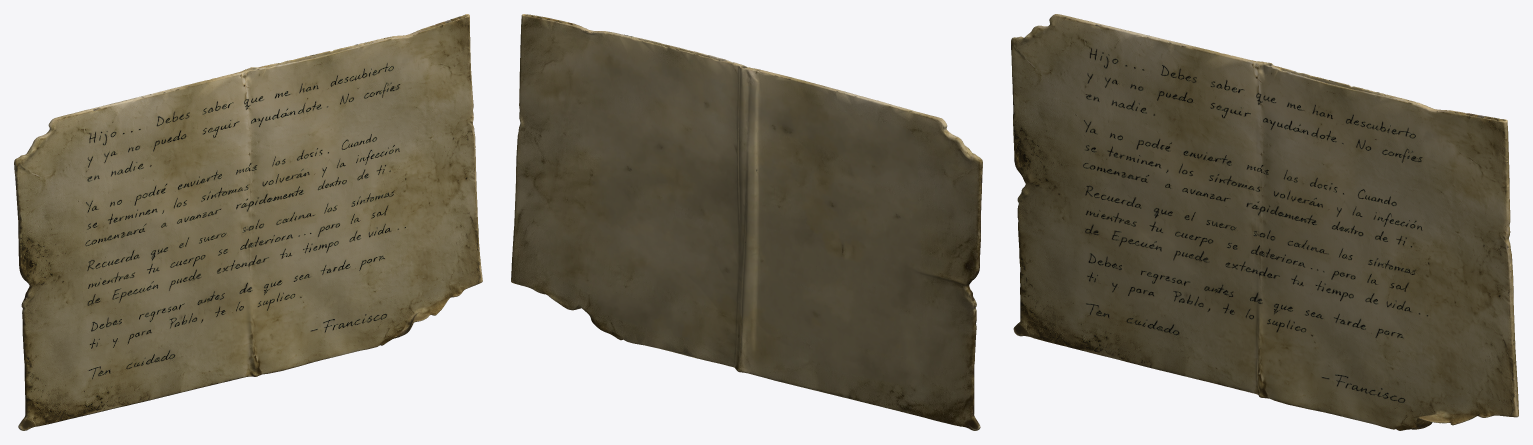
The model's file is carta abuelo v2.fbx.
3 renders of one model, left to right at view 1: azimuth 30°, elevation 25°; view 2: azimuth 150°, elevation 25°; view 3: azimuth 330°, elevation 25°, orthographic. The views are drawn at different scales.
Parts seen in each view (by area): view 1: Mesh_0.003; view 2: Mesh_0.003; view 3: Mesh_0.003.
Part boxes in pixels (x1,y1,x2,y2): Mesh_0.003: [14, 14, 482, 430]; Mesh_0.003: [511, 14, 982, 430]; Mesh_0.003: [1011, 14, 1518, 430].
Size of the model in its own units: 191 by 119 by 10.52.
Materials: 2 (2 with a texture image).
